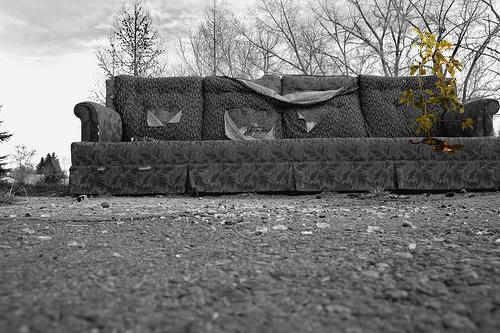tampered: (399, 29, 473, 155)
